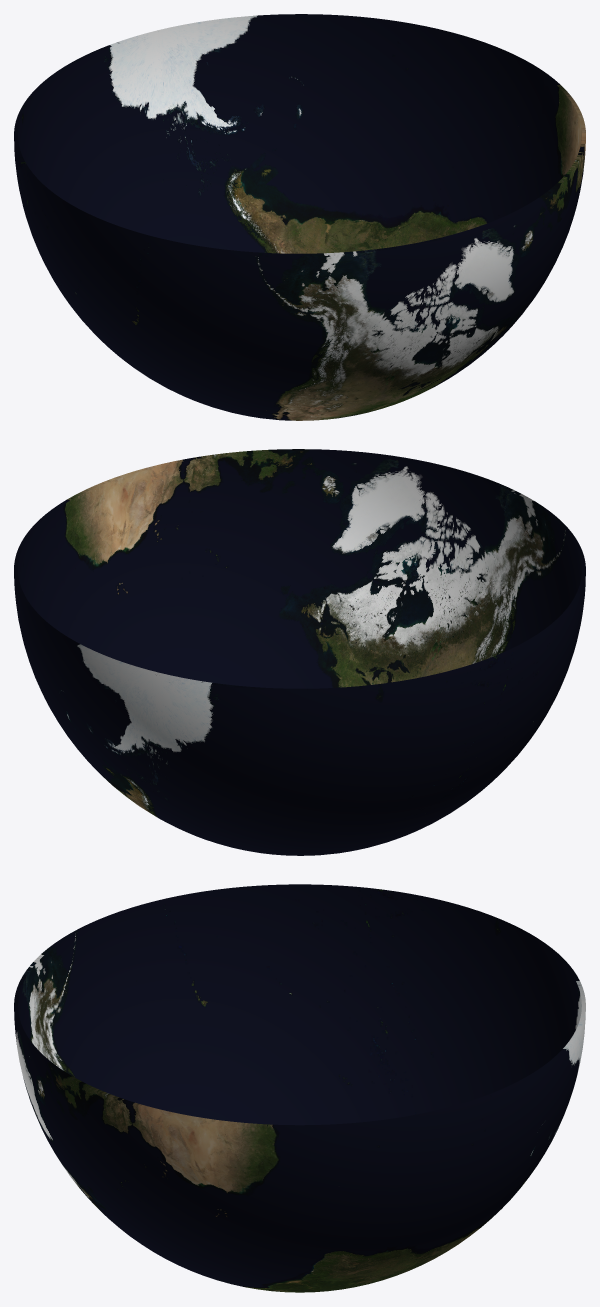
The picture shows the model from 3 angles, top to bottom: view 1: azimuth 30°, elevation 25°; view 2: azimuth 150°, elevation 25°; view 3: azimuth 270°, elevation 25°; orthographic projection.
Visible parts, largest first — view 1: DefaultName.005, DefaultName.011, DefaultName.002, DefaultName.008; view 2: DefaultName.008, DefaultName.002, DefaultName.011, DefaultName.005; view 3: DefaultName.011, DefaultName.002, DefaultName.005, DefaultName.008.
Part boxes in pixels (box(x1,y1,x2,y2)): DefaultName.005: box(157, 14, 547, 253); DefaultName.011: box(52, 194, 442, 420); DefaultName.002: box(14, 30, 201, 359); DefaultName.008: box(374, 74, 585, 410); DefaultName.008: box(52, 449, 442, 688); DefaultName.002: box(157, 629, 547, 855); DefaultName.011: box(400, 465, 585, 794); DefaultName.005: box(14, 509, 225, 845); DefaultName.011: box(14, 884, 299, 1125); DefaultName.002: box(300, 884, 585, 1125); DefaultName.005: box(300, 1005, 585, 1292); DefaultName.008: box(14, 1005, 299, 1292).
Bounding box in the file's own units: 127563 × 63781 × 127135.
4 materials, 4 textured.
